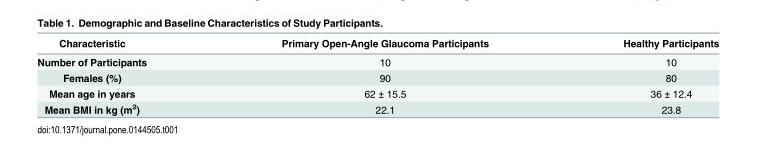table: (36, 36, 718, 114)
table column: (213, 36, 555, 114), (36, 36, 213, 114), (555, 36, 718, 114)
table column header: (36, 36, 718, 52)
table row: (36, 52, 718, 69), (36, 36, 718, 52), (36, 69, 718, 85), (36, 85, 718, 100), (36, 100, 718, 114)
